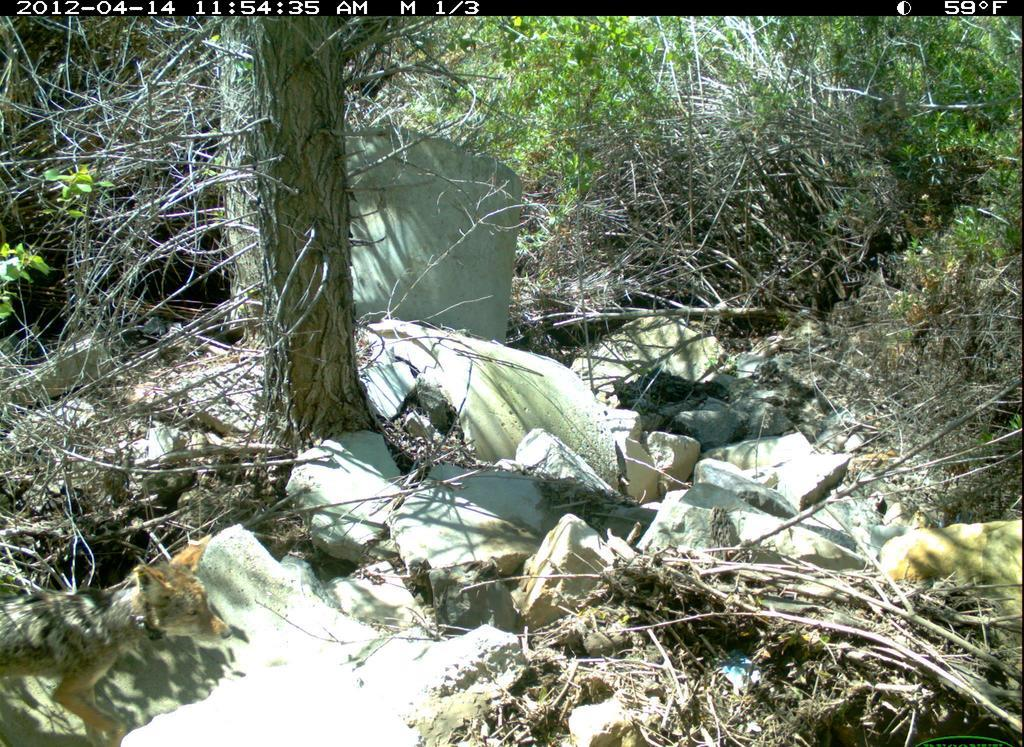coyote: (1, 536, 233, 747)
